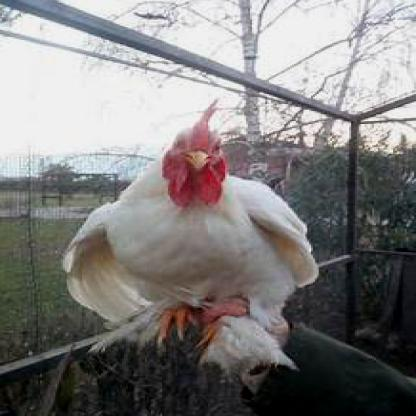chicken: (63, 97, 319, 373)
